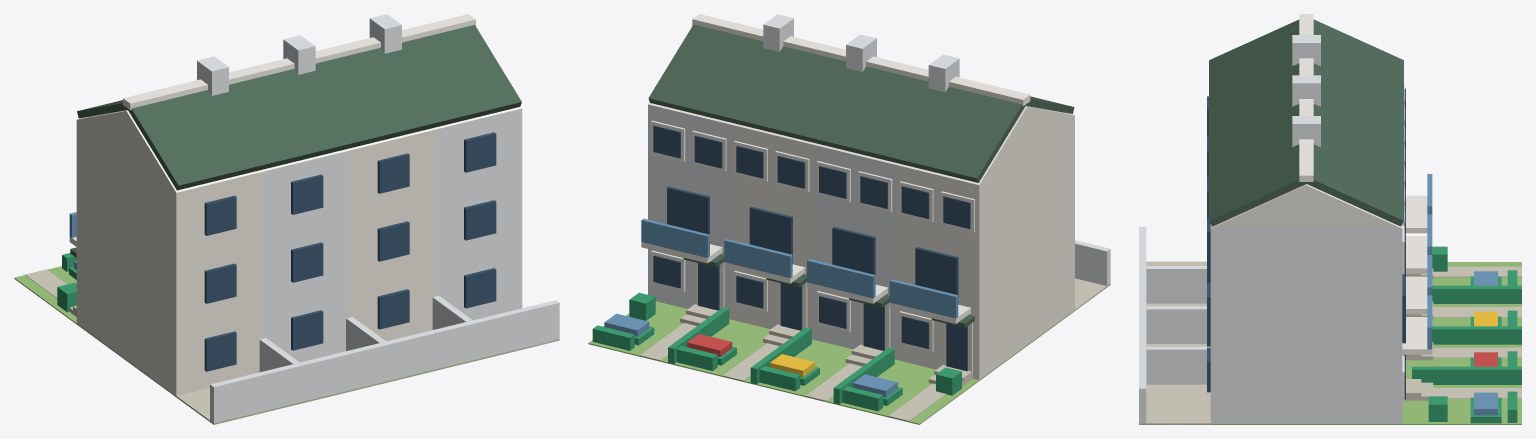
3 views of the same model, side by side, from view 1: azimuth 30°, elevation 25°; view 2: azimuth 150°, elevation 25°; view 3: azimuth 270°, elevation 25° (orthographic). The views are drawn at different scales.
Visible parts, largest first — view 1: house (×4), roof, yard_wall (×4), window_glass (×12), ridge, gable, chimney (×3), lawn, back_yard, path; view 2: house (×4), roof, window_glass (×16), lawn, balcony_glass (×4), window_frame (×12), hedge (×7), door (×4), ridge, gable, path (×4), chimney (×3) (+5 smaller); view 3: house, roof (×2), yard_wall (×4), hedge (×3), lawn, gable, balcony (×4), back_yard, path (×4), chimney (×3), ridge, flower_bed (×2) (+2 smaller).
Part boxes in pixels (bbox=[...]): house (×4): bbox=[76, 108, 522, 395]; roof: bbox=[127, 25, 521, 190]; yard_wall (×4): bbox=[210, 296, 559, 423]; window_glass (×12): bbox=[204, 132, 496, 371]; ridge: bbox=[123, 14, 475, 110]; gable: bbox=[77, 106, 521, 192]; chimney (×3): bbox=[197, 14, 401, 95]; lawn: bbox=[14, 266, 558, 424]; back_yard: bbox=[176, 339, 559, 424]; path: bbox=[25, 269, 66, 298]; house (×4): bbox=[648, 104, 1074, 379]; roof: bbox=[648, 24, 1026, 182]; window_glass (×16): bbox=[653, 125, 970, 348]; lawn: bbox=[588, 284, 1110, 424]; balcony_glass (×4): bbox=[641, 218, 958, 318]; window_frame (×12): bbox=[651, 120, 974, 352]; hedge (×7): bbox=[592, 307, 894, 411]; door (×4): bbox=[698, 263, 967, 371]; ridge: bbox=[692, 14, 1030, 106]; gable: bbox=[648, 102, 1074, 184]; path (×4): bbox=[640, 323, 945, 422]; chimney (×3): bbox=[763, 14, 959, 92]; house: bbox=[1210, 228, 1402, 423]; roof (×2): bbox=[1209, 19, 1403, 226]; yard_wall (×4): bbox=[1139, 227, 1210, 423]; hedge (×3): bbox=[1412, 285, 1521, 384]; lawn: bbox=[1139, 262, 1521, 424]; gable: bbox=[1210, 184, 1402, 228]; balcony (×4): bbox=[1402, 195, 1432, 354]; back_yard: bbox=[1139, 261, 1210, 424]; path (×4): bbox=[1433, 266, 1521, 398]; chimney (×3): bbox=[1292, 35, 1320, 147]; ridge: bbox=[1299, 14, 1313, 181]; flower_bed (×2): bbox=[1474, 311, 1497, 415].
Bounding box in the file's own units: 16 × 12.2 × 16.
